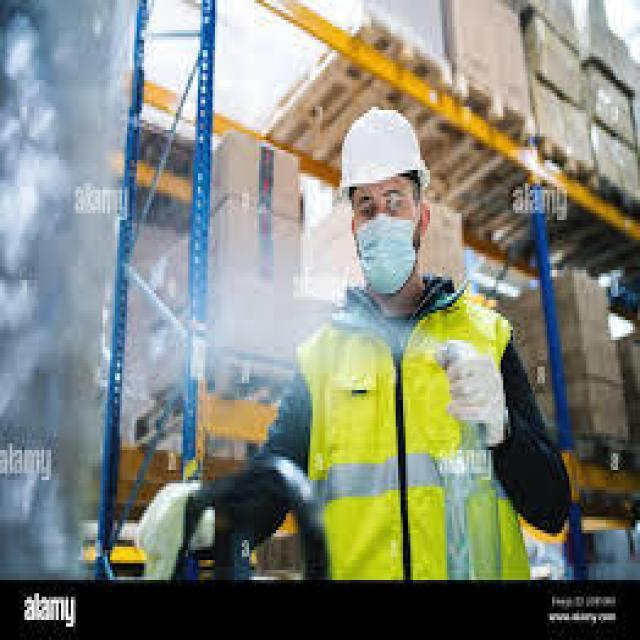safety_helmet: (298, 272, 514, 573)
